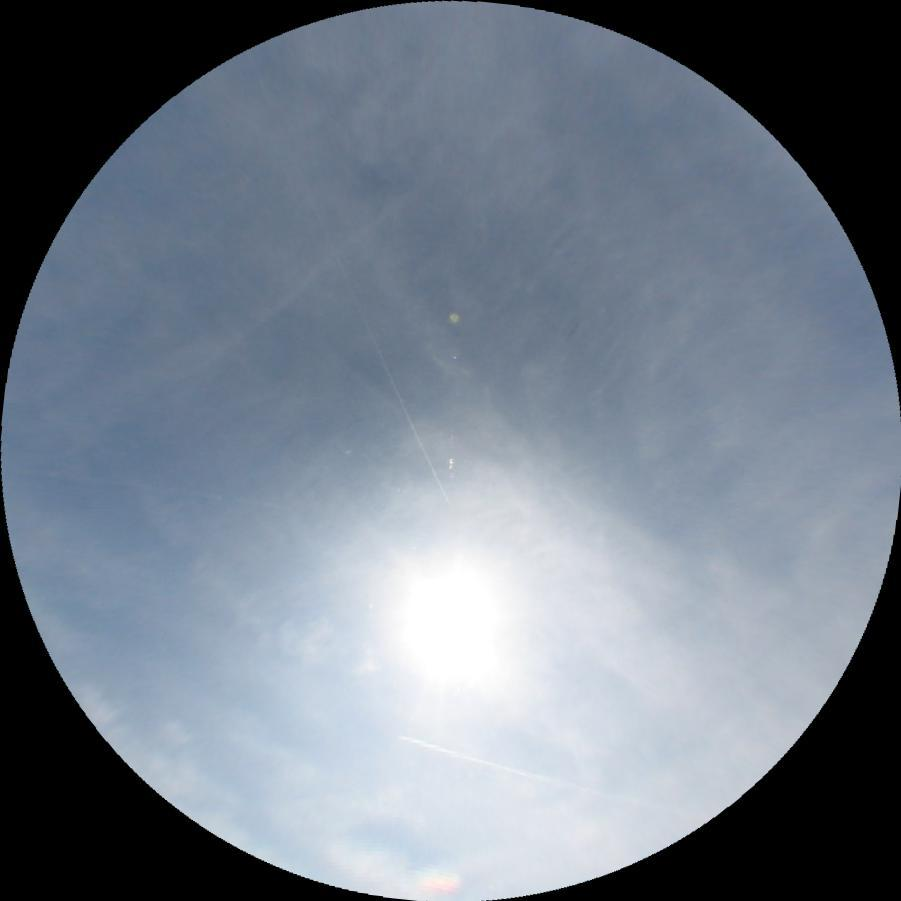contrail young: (307, 197, 453, 510), (391, 733, 640, 807)
parasite: (1, 463, 299, 514)
sun: (411, 552, 569, 723)
unknow: (39, 170, 459, 456)
